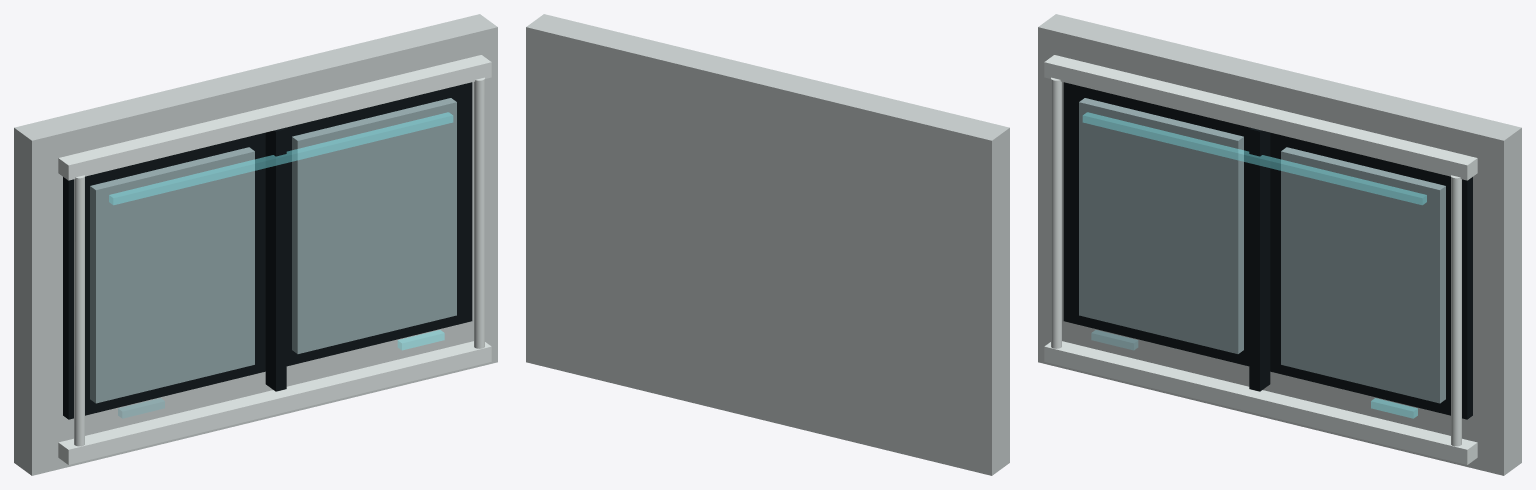
Rendered from hp_room_wall_panel_clinic.glb.
The picture shows the model from 3 angles, left to right: view 1: azimuth 30°, elevation 25°; view 2: azimuth 150°, elevation 25°; view 3: azimuth 330°, elevation 25°; orthographic projection.
Parts seen in each view (by area): view 1: clinic_wall_structural_back, clinic_wall_main_panel_left, clinic_wall_main_panel_right, clinic_wall_inset_shadow, clinic_wall_top_rail, clinic_wall_bottom_rail, clinic_wall_center_seam, clinic_wall_status_strip, clinic_wall_side_pipe_-1.03, clinic_wall_side_pipe_1.03, clinic_wall_data_chip_b, clinic_wall_data_chip_a; view 2: clinic_wall_structural_back; view 3: clinic_wall_structural_back, clinic_wall_main_panel_right, clinic_wall_main_panel_left, clinic_wall_inset_shadow, clinic_wall_top_rail, clinic_wall_bottom_rail, clinic_wall_center_seam, clinic_wall_status_strip, clinic_wall_side_pipe_1.03, clinic_wall_side_pipe_-1.03, clinic_wall_data_chip_a, clinic_wall_data_chip_b.
Boxes of the visible parts, x1,y1,x2,y2 form: clinic_wall_structural_back: [14, 14, 497, 475]; clinic_wall_main_panel_left: [90, 147, 254, 403]; clinic_wall_main_panel_right: [292, 98, 456, 353]; clinic_wall_inset_shadow: [63, 82, 472, 419]; clinic_wall_top_rail: [58, 55, 491, 180]; clinic_wall_bottom_rail: [58, 341, 491, 464]; clinic_wall_center_seam: [265, 128, 286, 391]; clinic_wall_status_strip: [109, 112, 453, 204]; clinic_wall_side_pipe_-1.03: [74, 175, 84, 446]; clinic_wall_side_pipe_1.03: [474, 77, 484, 348]; clinic_wall_data_chip_b: [397, 330, 444, 350]; clinic_wall_data_chip_a: [118, 398, 164, 418]; clinic_wall_structural_back: [526, 14, 1009, 475]; clinic_wall_structural_back: [1038, 14, 1521, 475]; clinic_wall_main_panel_right: [1281, 147, 1445, 403]; clinic_wall_main_panel_left: [1079, 98, 1243, 353]; clinic_wall_inset_shadow: [1063, 82, 1472, 419]; clinic_wall_top_rail: [1044, 55, 1477, 180]; clinic_wall_bottom_rail: [1044, 341, 1477, 464]; clinic_wall_center_seam: [1249, 128, 1270, 391]; clinic_wall_status_strip: [1082, 112, 1426, 204]; clinic_wall_side_pipe_1.03: [1451, 175, 1461, 446]; clinic_wall_side_pipe_-1.03: [1051, 77, 1061, 348]; clinic_wall_data_chip_a: [1091, 330, 1138, 350]; clinic_wall_data_chip_b: [1371, 398, 1417, 418].
Size of the model in its own units: 2.4 by 1.65 by 0.326.
